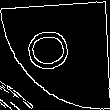O_E: (29, 32, 81, 78)
